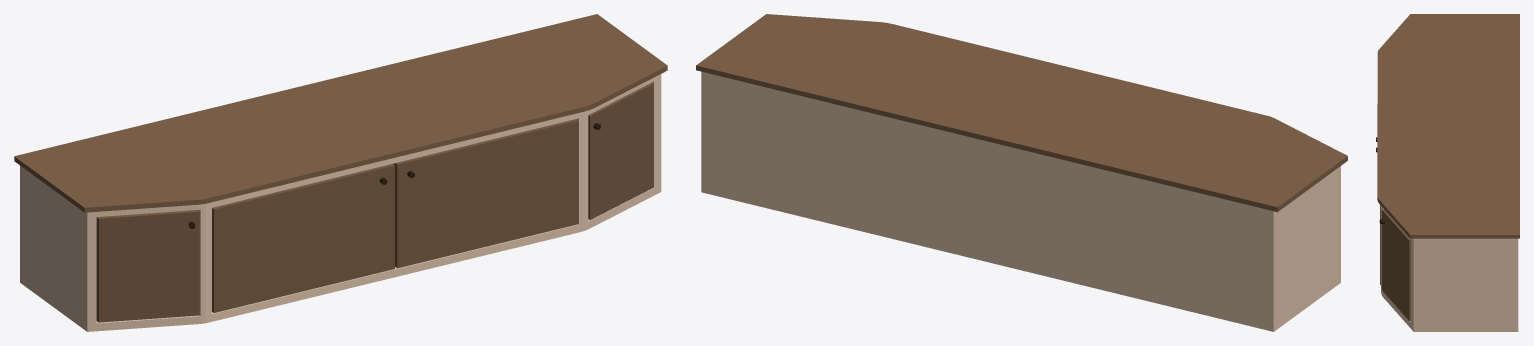
File: Tv_Unterschrank.fbx
The picture shows the model from 3 angles, left to right: view 1: azimuth 30°, elevation 25°; view 2: azimuth 150°, elevation 25°; view 3: azimuth 270°, elevation 25°; orthographic projection. The views are drawn at different scales.
Parts seen in each view (by area): view 1: Cylinder; view 2: Cylinder; view 3: Cylinder.
Boxes of the visible parts, x1=… form: Cylinder: x1=14, y1=14, x2=667, y2=331; Cylinder: x1=696, y1=14, x2=1347, y2=331; Cylinder: x1=1376, y1=14, x2=1519, y2=331.
Bounding box in the file's own units: 763 × 159 × 210.
